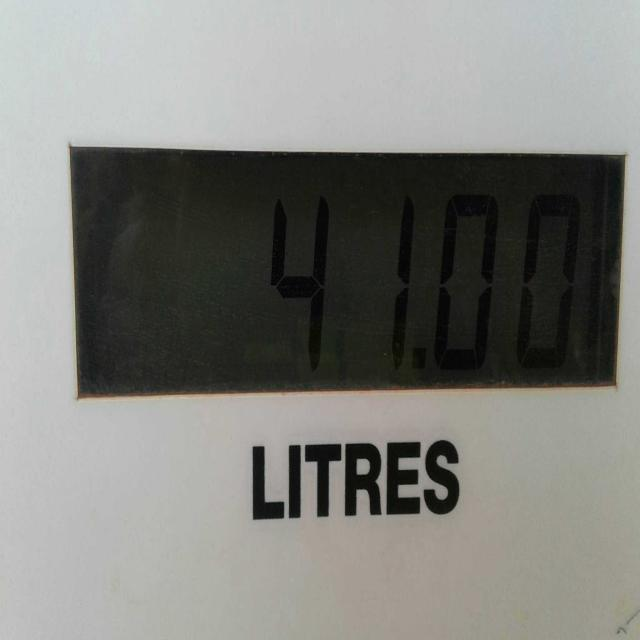.: (406, 333, 436, 389)
0: (426, 180, 506, 387), (518, 193, 586, 376)
1: (364, 183, 414, 378)
4: (255, 178, 349, 376)
